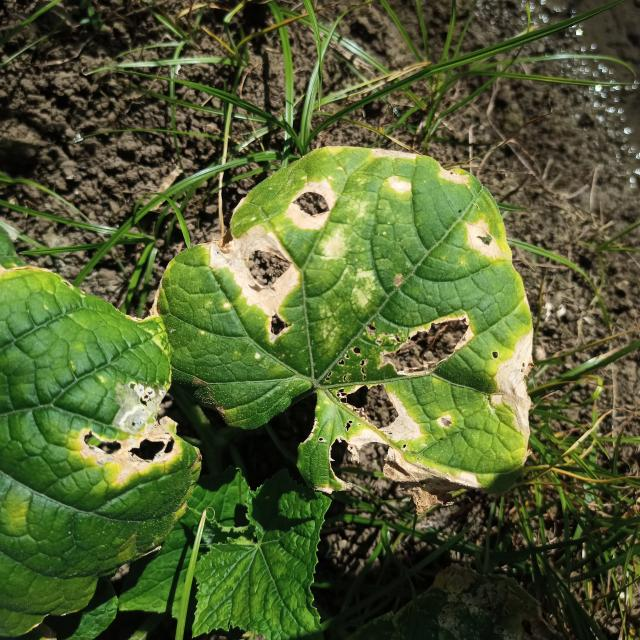disease_cucumber: (205, 149, 533, 494), (73, 384, 181, 478)
